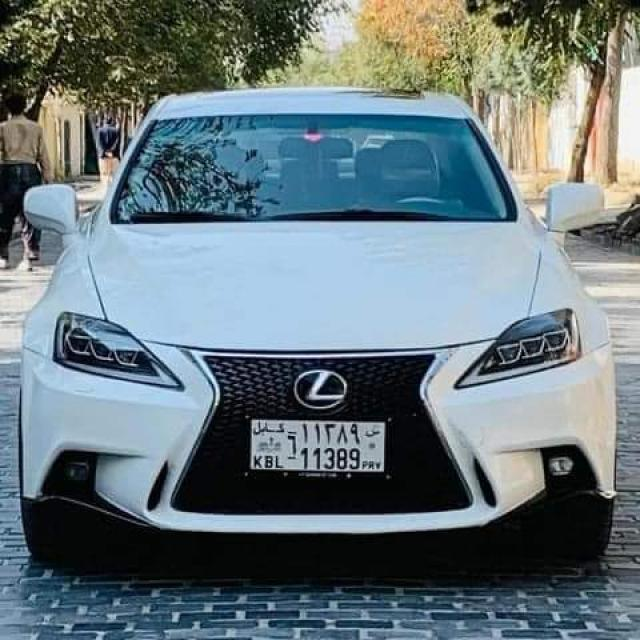Plate: (251, 420, 384, 469)
